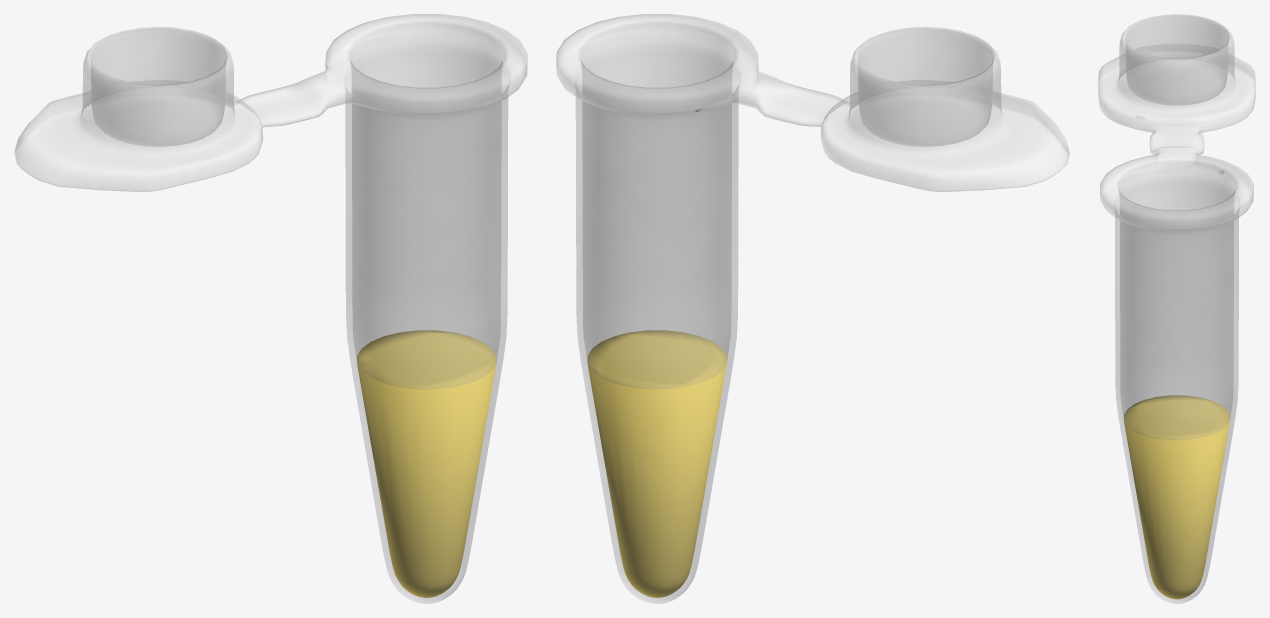
The model's file is 待测血清.glb.
3 renders of one model, left to right at view 1: azimuth 30°, elevation 25°; view 2: azimuth 150°, elevation 25°; view 3: azimuth 270°, elevation 25°, orthographic. The views are drawn at different scales.
Visible parts, largest first — view 1: 离心管稀释液.002, 离心管; view 2: 离心管稀释液.002, 离心管; view 3: 离心管稀释液.002, 离心管.
Part boxes in pixels (left/top/right/bottom): 离心管稀释液.002: left=14, top=14, right=527, bottom=603; 离心管: left=357, top=330, right=496, bottom=597; 离心管稀释液.002: left=556, top=14, right=1069, bottom=603; 离心管: left=587, top=330, right=726, bottom=597; 离心管稀释液.002: left=1098, top=14, right=1255, bottom=603; 离心管: left=1124, top=395, right=1229, bottom=599.
Bounding box in the file's own units: 0.00899 × 0.0107 × 0.00329.
2 materials, 2 textured.
